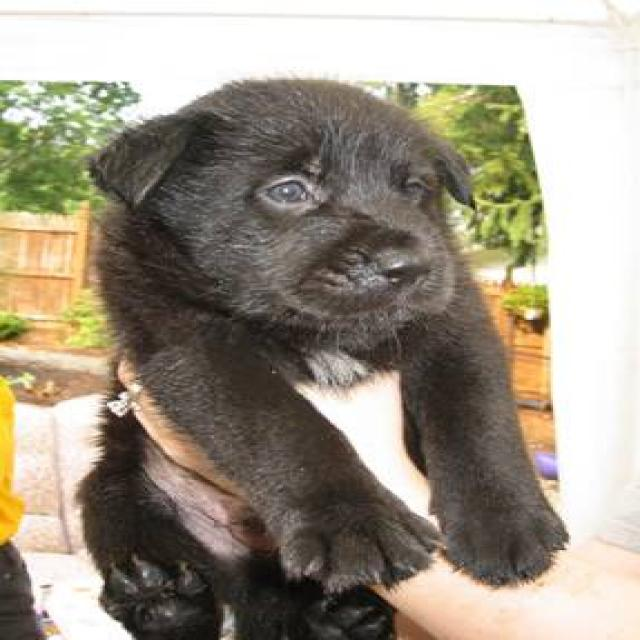dog: (71, 75, 571, 638)
